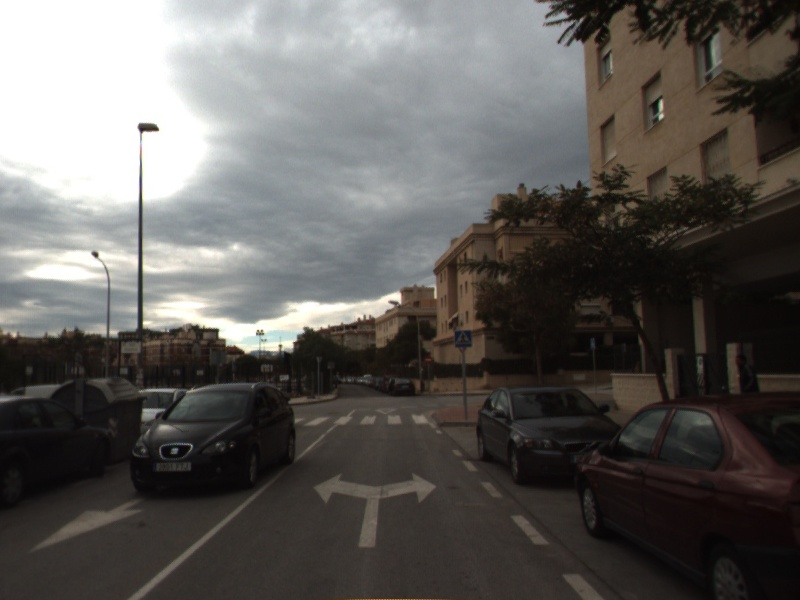LEFT_RIGHT: (311, 470, 439, 550)
